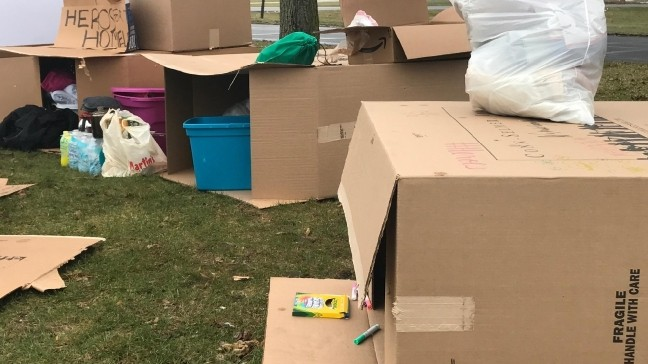bottle: (87, 137, 100, 175), (57, 131, 69, 168)
box: (341, 98, 648, 364), (153, 55, 334, 206), (338, 1, 470, 62), (130, 1, 252, 52)
tree: (279, 1, 320, 35)
